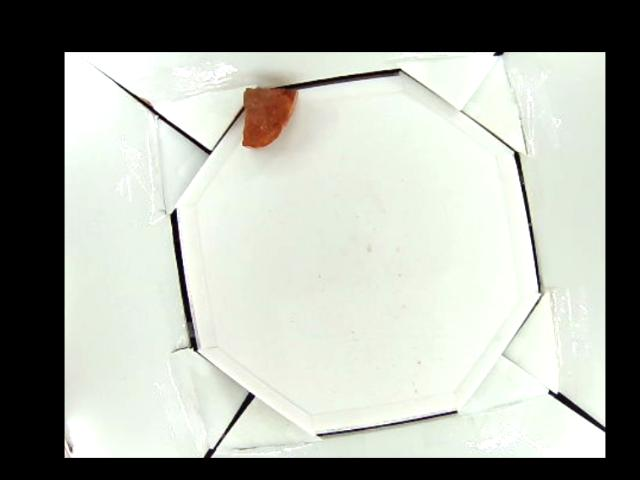Brisk: (238, 85, 298, 147)
